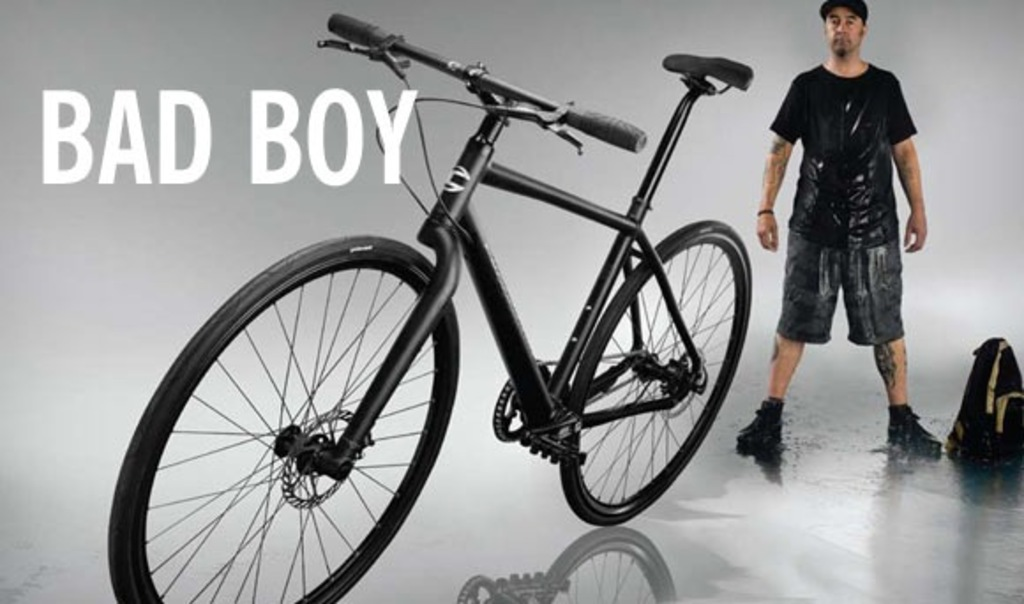Bike_toward: (116, 19, 757, 604)
